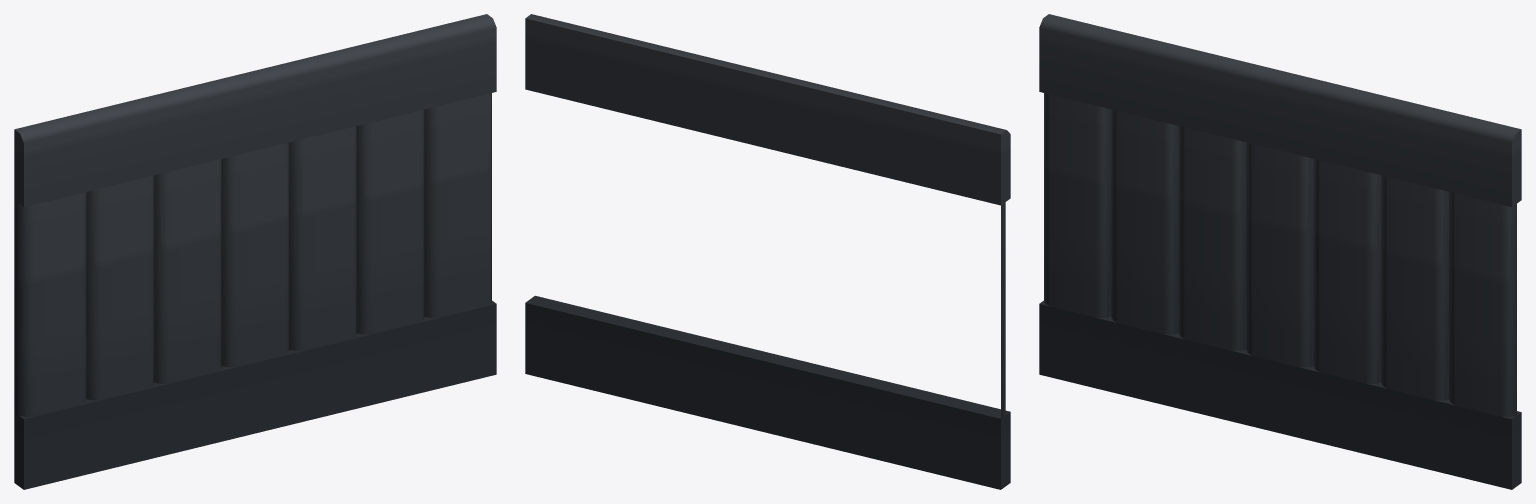
The model's file is Panel_Black_03.glb.
3 views of the same model, side by side, from view 1: azimuth 30°, elevation 25°; view 2: azimuth 150°, elevation 25°; view 3: azimuth 330°, elevation 25° (orthographic).
Parts seen in each view (by area): view 1: Panel_Black_03; view 2: Panel_Black_03; view 3: Panel_Black_03.
Part boxes in pixels (bbox=[...]): Panel_Black_03: bbox=[14, 14, 496, 489]; Panel_Black_03: bbox=[525, 14, 1010, 489]; Panel_Black_03: bbox=[1039, 14, 1521, 489].
Bounding box in the file's own units: 1.4 × 1 × 0.05.
Materials: 1 (1 with a texture image).
